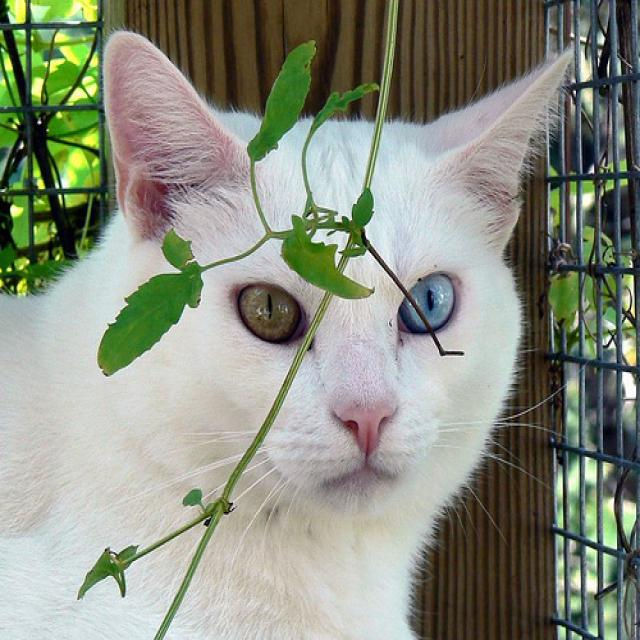left eye: (396, 269, 458, 335)
